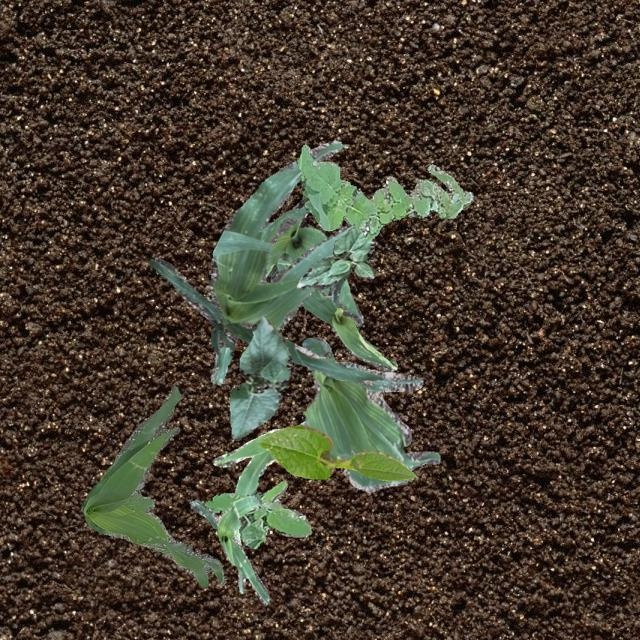crop: (148, 140, 382, 384), (210, 198, 362, 384), (302, 336, 439, 492), (212, 420, 306, 592), (276, 252, 396, 370), (189, 494, 269, 604), (258, 424, 416, 479), (228, 314, 290, 440), (296, 226, 374, 288)
weed: (80, 384, 224, 586), (296, 144, 472, 238), (204, 480, 310, 548)
